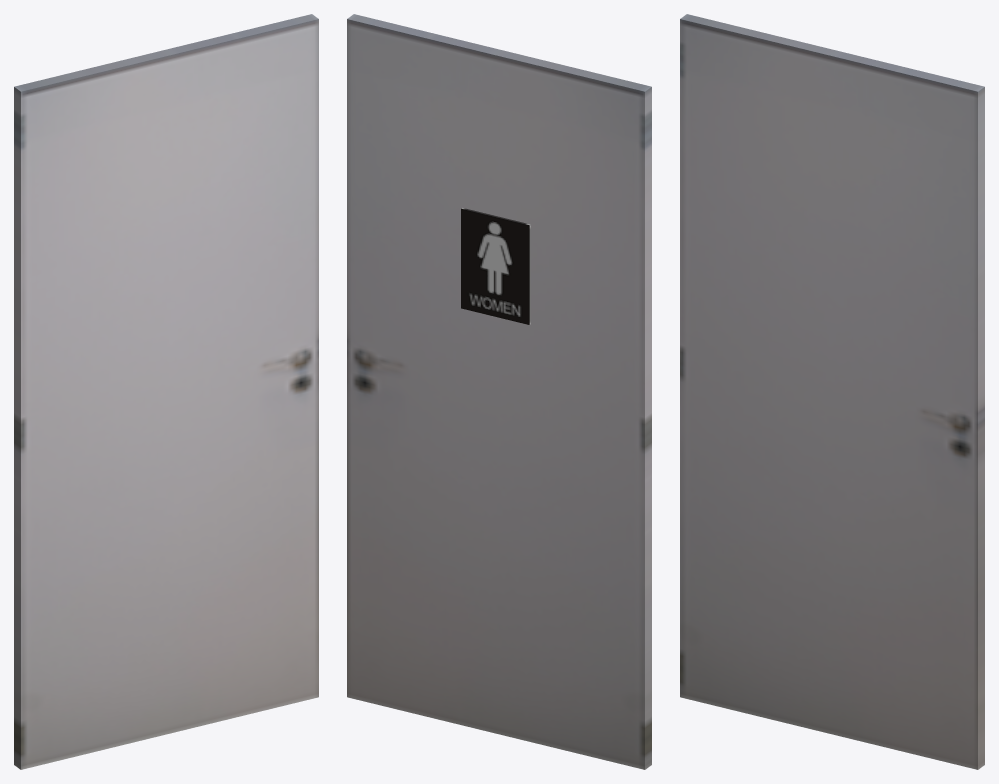
Rendered from bathroom_door_women.fbx.
The picture shows the model from 3 angles, left to right: view 1: azimuth 30°, elevation 25°; view 2: azimuth 150°, elevation 25°; view 3: azimuth 330°, elevation 25°; orthographic projection.
Visible parts, largest first — view 1: bathroom_door_women; view 2: bathroom_door_women; view 3: bathroom_door_women.
Part boxes in pixels (box(x1,y1,x2,y2)): bathroom_door_women: box(14, 14, 318, 769); bathroom_door_women: box(347, 14, 651, 769); bathroom_door_women: box(680, 14, 984, 769).
Bounding box in the file's own units: 100 × 218 × 4.7.
